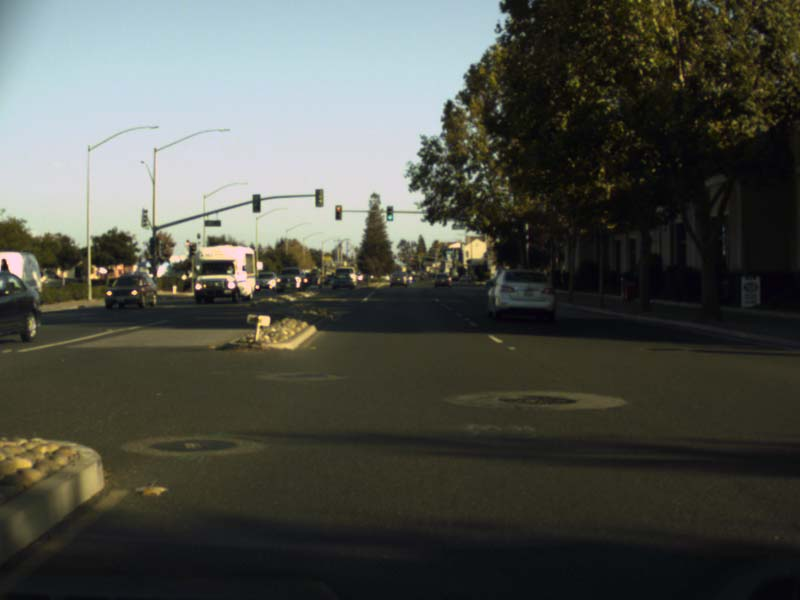Green: (386, 206, 393, 220)
Red: (335, 205, 341, 220)
